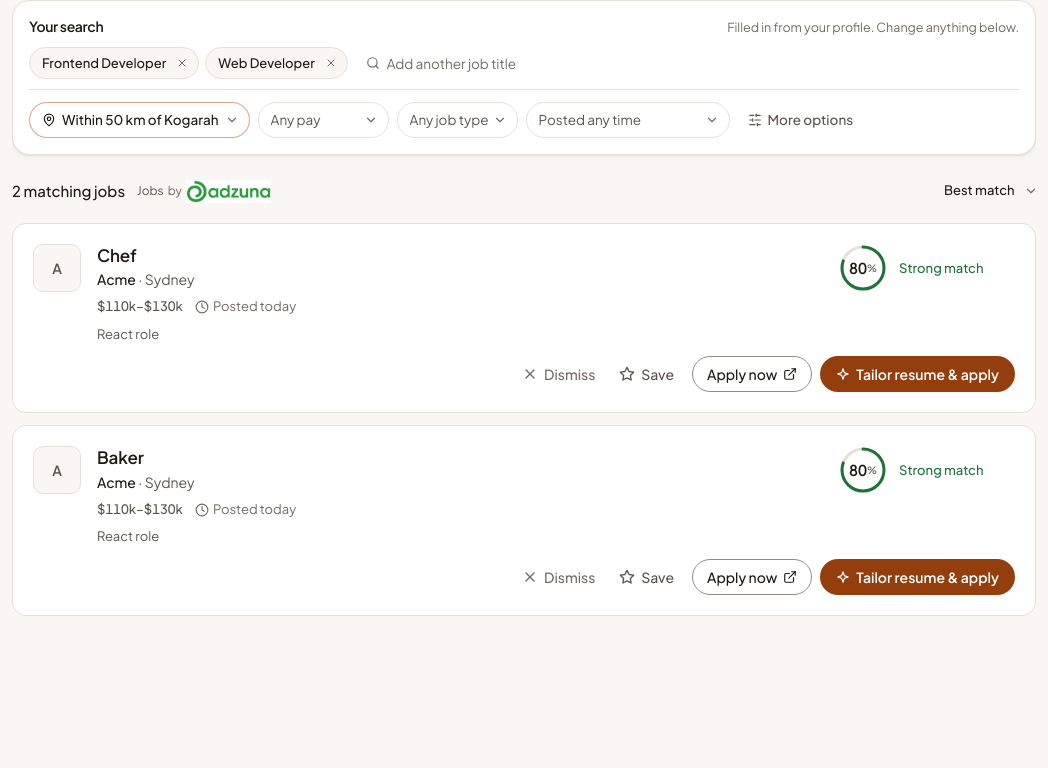
Scenario: MatchesView › undo waits for the dismiss to be recorded, and a failed dismiss never restores twice
The width and height of the screenshot is (1048, 768).
Step 1. Click the 2nd button "Dismiss" → (559, 577), box [512,559,605,595]
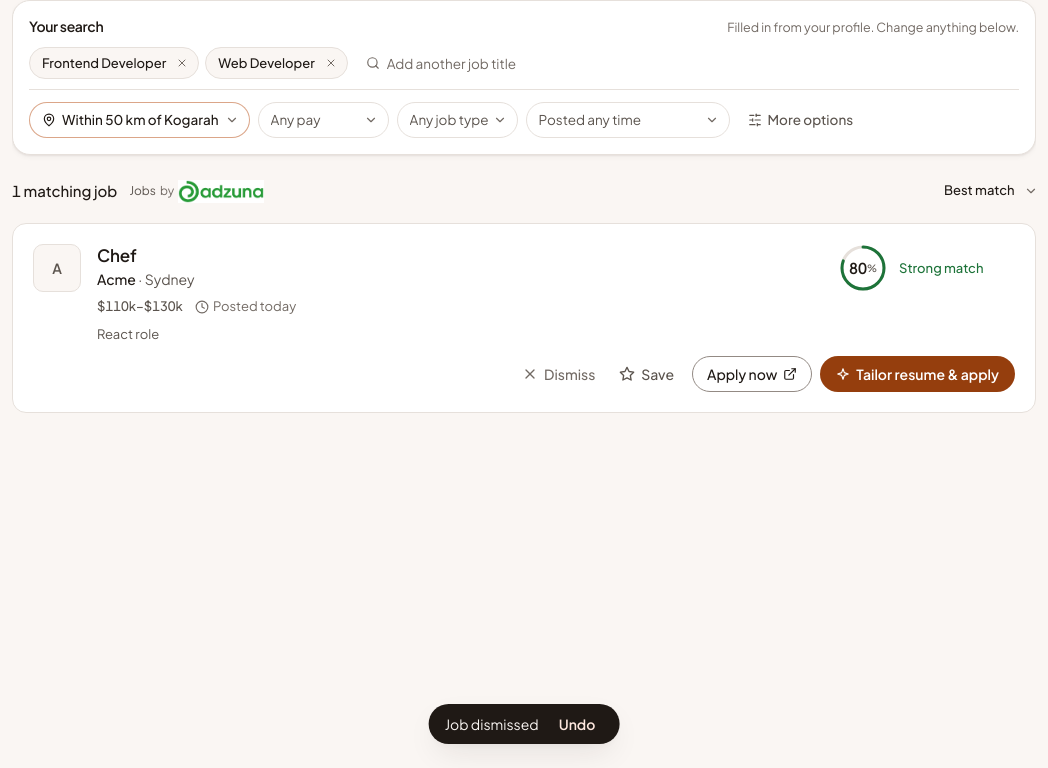
Step 2. Click the button "Undo" → (577, 724), box [551,712,603,736]
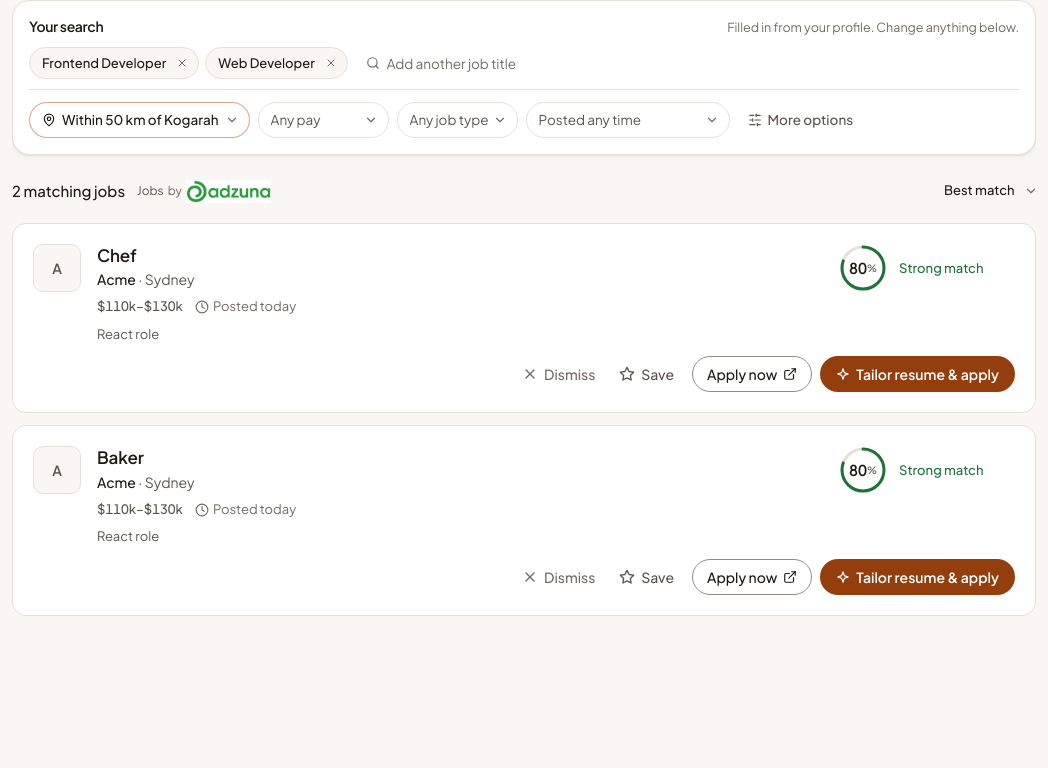
Check: the number of headings "Baker" is 1, box [97,446,144,468]
